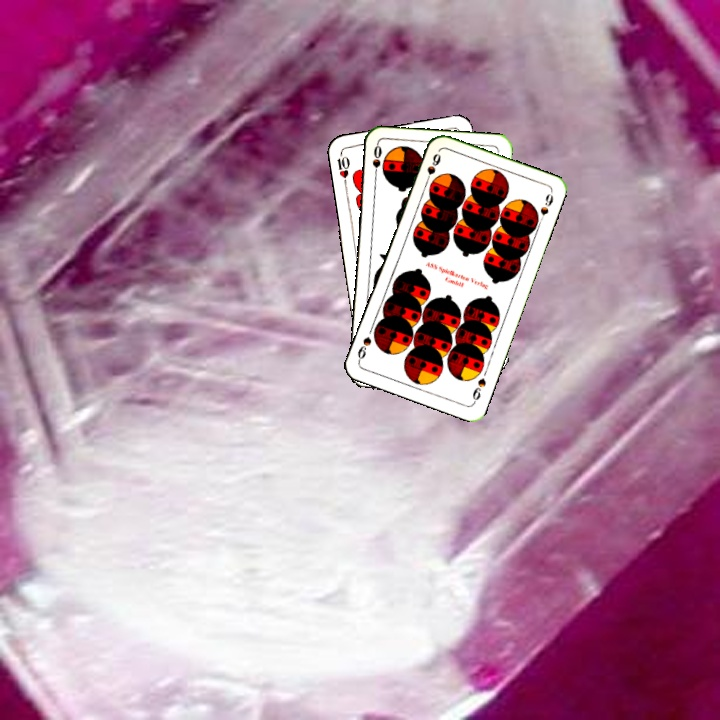H10: (333, 148, 352, 188)
S9: (421, 149, 443, 187), (468, 374, 488, 406)
SO: (368, 141, 384, 182)
